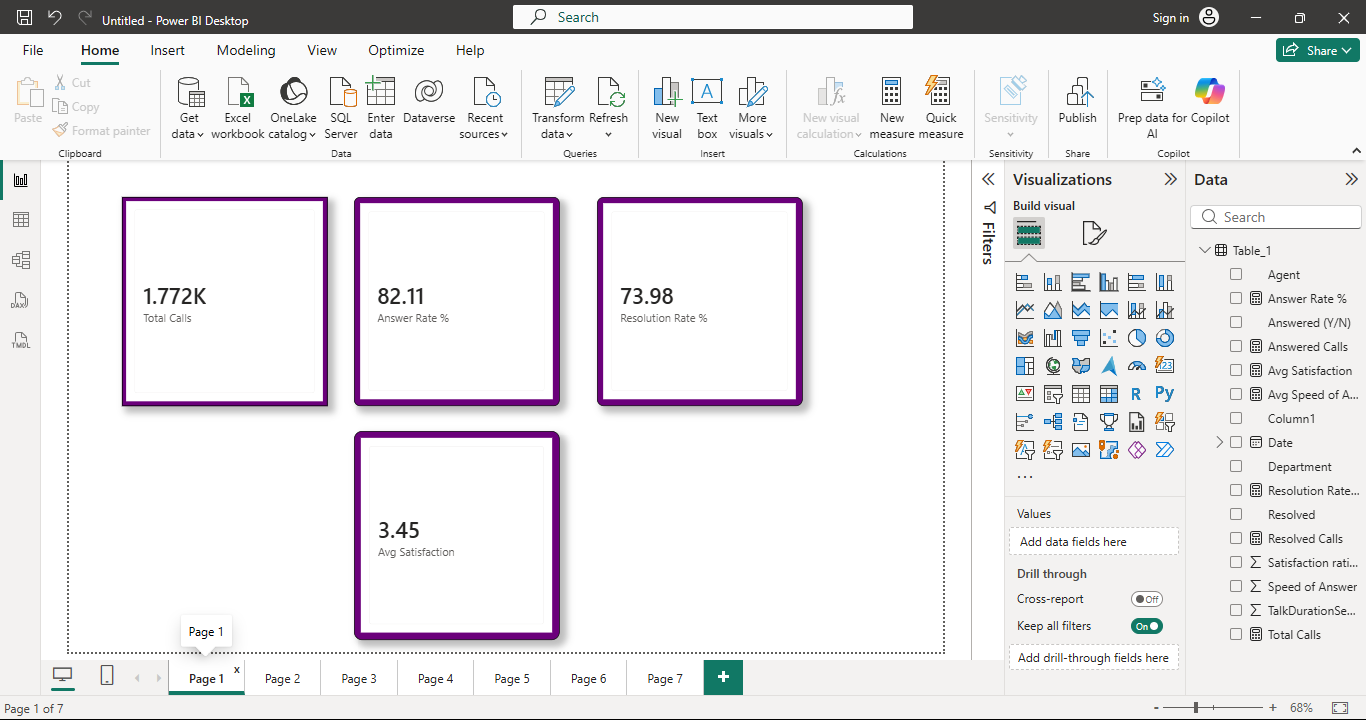

The page's visual inventory and layout, read from the dashboard file:
{"tool":"powerbi","page":{"name":"Page 1","canvas":[1280,720],"ordinal":0},"visuals":[{"type":"cardVisual","fields":{"Data":["Table_1.Total Calls"]},"box":[77.3,53.8,300.7,305.7],"z":0},{"type":"cardVisual","fields":{"Data":["Table_1.Answer Rate %"]},"box":[416.6,53.8,300.7,305.7],"z":1},{"type":"cardVisual","fields":{"Data":["Table_1.Resolution Rate %"]},"box":[772.7,53.8,300.7,305.7],"z":2},{"type":"cardVisual","fields":{"Data":["Table_1.Avg Satisfaction"]},"box":[416.6,396.4,300.7,305.7],"z":3}]}

Visuals, with their boxes on the page's 1280x720 design canvas (x1, y1, x2, y2). These are canvas units, not pixel positions in the 1366x720 screenshot, which may show the page scaled, cropped or inside an application window:
cardVisual - Table_1.Total Calls: box(77, 54, 378, 360)
cardVisual - Table_1.Answer Rate %: box(417, 54, 717, 360)
cardVisual - Table_1.Resolution Rate %: box(773, 54, 1073, 360)
cardVisual - Table_1.Avg Satisfaction: box(417, 396, 717, 702)
